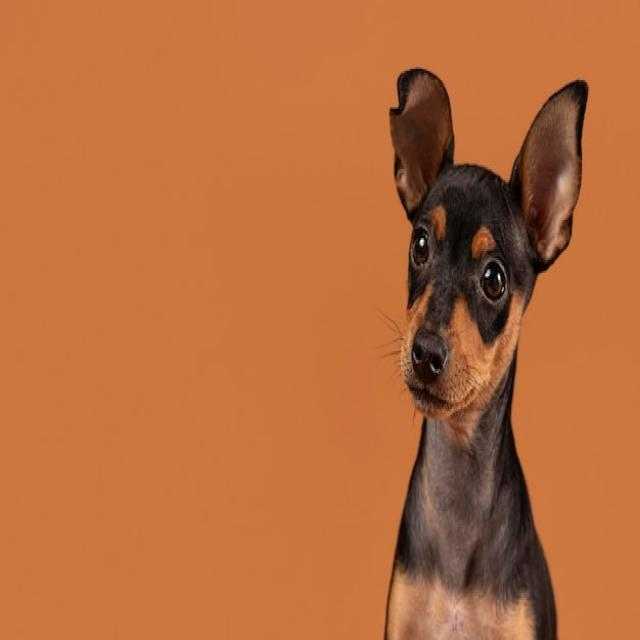Dog: (386, 68, 588, 640)
